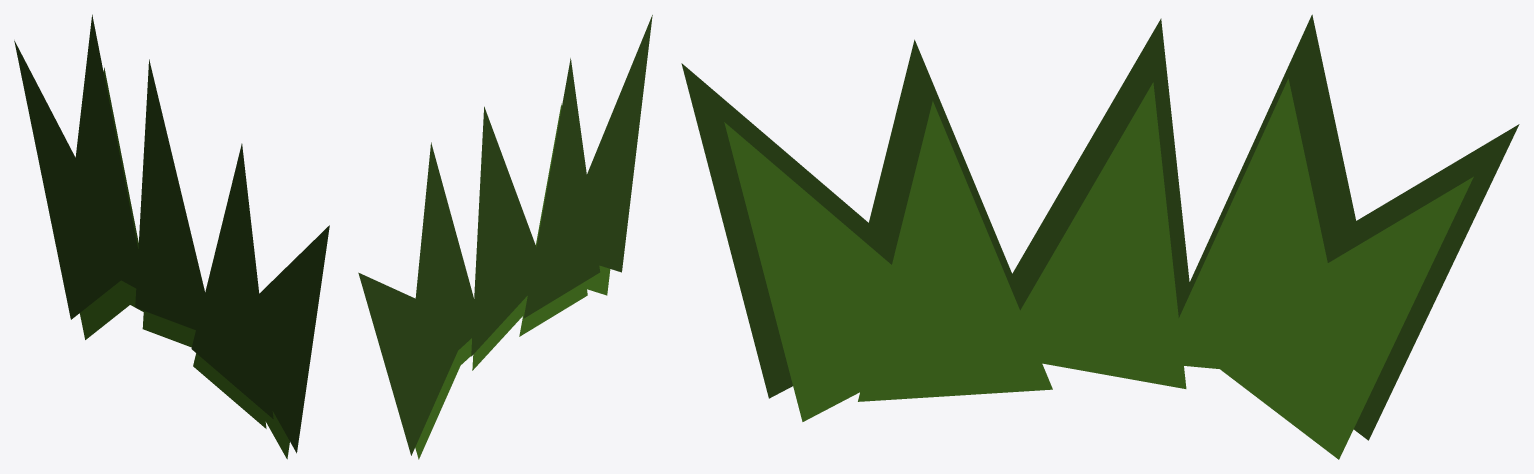
The model's file is grass.fbx.
The picture shows the model from 3 angles, left to right: view 1: azimuth 30°, elevation 25°; view 2: azimuth 150°, elevation 25°; view 3: azimuth 270°, elevation 25°; orthographic projection. The views are drawn at different scales.
Visible parts, largest first — view 1: Polygon_5, Polygon_7, Polygon_8, Polygon_9, Polygon_6, Polygon_4, Polygon_1, Polygon_2, Polygon_3, Polygon; view 2: Polygon_6, Polygon_9, Polygon_8, Polygon_7, Polygon_5, Polygon_1, Polygon_4, Polygon_2, Polygon; view 3: Polygon_2, Polygon_4, Polygon_1, Polygon_3, Polygon, Polygon_9, Polygon_7, Polygon_5, Polygon_6, Polygon_8.
Boxes of the visible parts, bbox=[...] form: Polygon_5: bbox=[14, 40, 133, 319]; Polygon_7: bbox=[135, 59, 215, 337]; Polygon_8: bbox=[191, 143, 273, 418]; Polygon_9: bbox=[231, 225, 329, 453]; Polygon_6: bbox=[65, 14, 145, 291]; Polygon_4: bbox=[79, 280, 135, 339]; Polygon_1: bbox=[193, 353, 266, 428]; Polygon_2: bbox=[142, 312, 195, 347]; Polygon_3: bbox=[103, 67, 153, 316]; Polygon: bbox=[256, 405, 289, 459]; Polygon_6: bbox=[406, 142, 482, 397]; Polygon_9: bbox=[556, 15, 652, 272]; Polygon_8: bbox=[523, 58, 600, 318]; Polygon_7: bbox=[471, 106, 536, 356]; Polygon_5: bbox=[358, 272, 457, 455]; Polygon_1: bbox=[519, 103, 587, 336]; Polygon_4: bbox=[415, 340, 471, 459]; Polygon_2: bbox=[472, 296, 527, 370]; Polygon: bbox=[578, 265, 610, 295]; Polygon_2: bbox=[994, 82, 1186, 388]; Polygon_4: bbox=[1190, 176, 1473, 459]; Polygon_1: bbox=[858, 101, 1052, 401]; Polygon_3: bbox=[1159, 78, 1346, 376]; Polygon: bbox=[724, 122, 970, 421]; Polygon_9: bbox=[681, 63, 894, 398]; Polygon_7: bbox=[1008, 18, 1190, 317]; Polygon_5: bbox=[1323, 124, 1519, 440]; Polygon_6: bbox=[1189, 14, 1360, 291]; Polygon_8: bbox=[864, 39, 1024, 310].
Size of the model in its own units: 0.3675 by 37.52 by 64.21.
